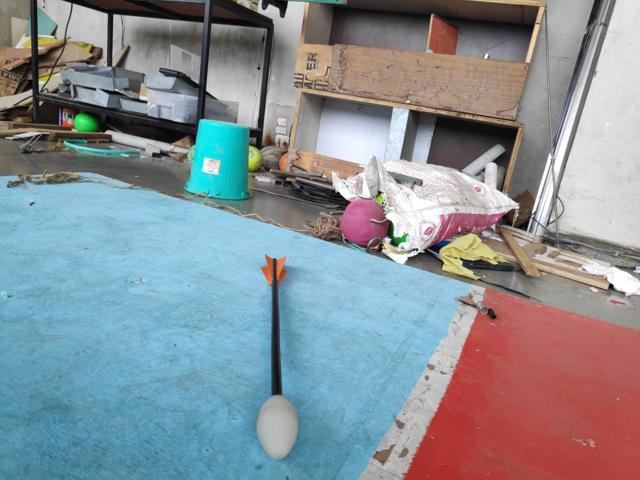Head: (254, 392, 301, 464)
Tail: (256, 251, 292, 289)
